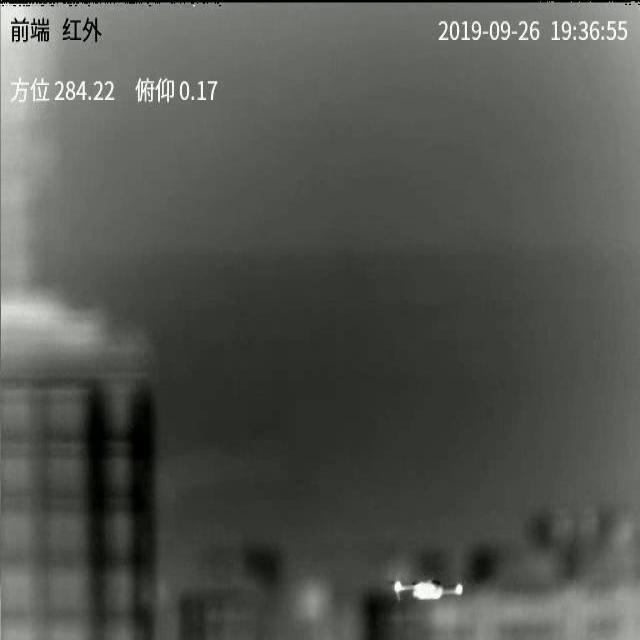drone: (385, 579, 463, 601)
